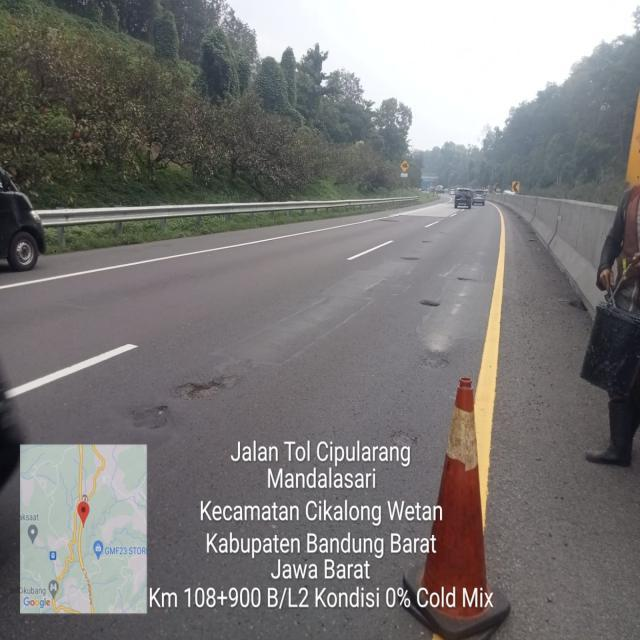Buraco: (170, 373, 243, 403), (417, 299, 442, 309), (153, 404, 169, 418), (454, 276, 476, 282)
